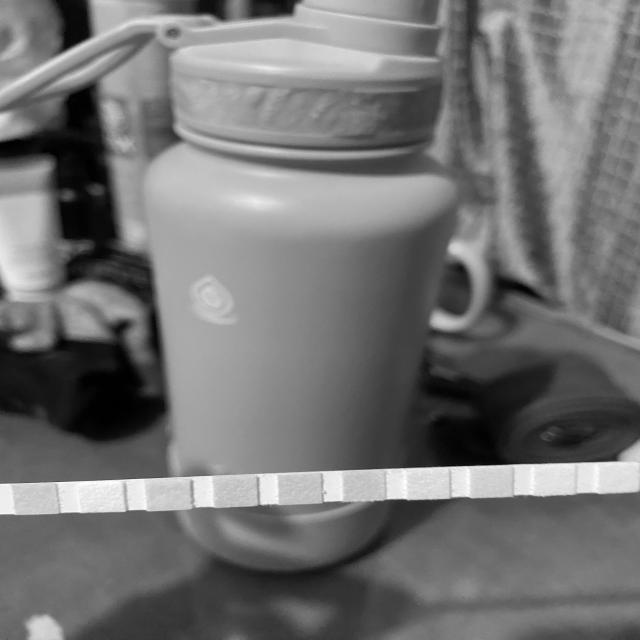Bilirubin: (80, 483, 126, 512)
Blood: (278, 475, 323, 504)
Glucose: (14, 484, 58, 514)
Ketone: (146, 480, 192, 510)
Leukocytes: (597, 463, 640, 492)
Nitrite: (534, 465, 576, 494)
Protein: (407, 469, 450, 499)
SpGravity: (214, 476, 258, 506)
Urobilinogen: (470, 468, 513, 498)
background: (0, 0, 640, 640)
pH: (343, 471, 385, 501)
strip: (1, 463, 640, 516)
